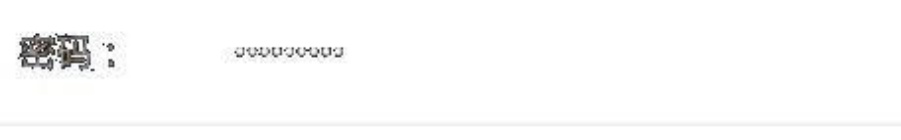EditText: (1, 1, 900, 139)
